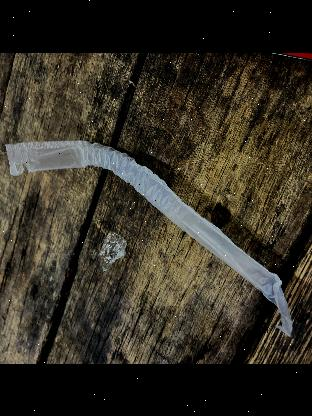Others: (0, 140, 290, 342)
